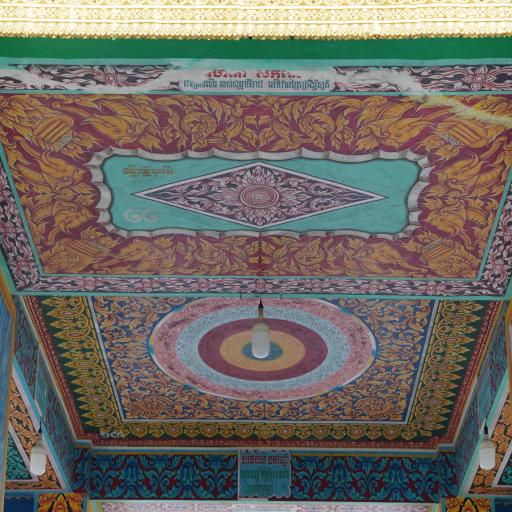hoa: (213, 169, 311, 224), (462, 62, 496, 90), (21, 65, 54, 92), (387, 66, 419, 93), (94, 66, 126, 90), (8, 252, 37, 275), (0, 218, 26, 240), (76, 274, 103, 294), (484, 256, 512, 275), (417, 279, 446, 296), (359, 277, 387, 294), (303, 278, 331, 294), (134, 276, 158, 294), (189, 277, 216, 293), (247, 278, 273, 294), (494, 222, 512, 242)
la: (0, 92, 62, 148), (150, 173, 212, 220), (368, 459, 425, 504), (305, 176, 374, 212), (105, 458, 160, 499), (312, 458, 365, 499), (167, 455, 210, 502), (132, 94, 163, 151), (428, 248, 479, 282), (220, 235, 261, 277), (37, 236, 77, 274), (176, 95, 233, 121), (88, 467, 124, 501), (69, 90, 126, 110), (120, 74, 180, 92), (136, 452, 184, 474), (192, 237, 226, 268), (354, 96, 388, 126), (438, 448, 458, 499), (472, 208, 494, 254), (400, 453, 443, 476), (320, 256, 362, 278), (290, 95, 333, 116), (5, 144, 34, 175), (163, 109, 186, 148), (159, 256, 196, 280), (291, 454, 335, 474), (331, 112, 354, 150), (72, 446, 90, 493), (72, 124, 102, 152), (352, 124, 380, 154), (416, 76, 468, 92), (411, 64, 470, 78), (493, 139, 512, 181), (346, 453, 388, 472), (192, 455, 238, 472), (324, 233, 358, 255), (86, 452, 127, 470), (294, 235, 317, 267), (61, 136, 86, 165), (192, 469, 217, 498), (160, 469, 184, 499), (258, 94, 290, 116), (116, 64, 166, 78), (214, 471, 239, 499), (430, 141, 460, 164), (228, 93, 258, 115), (290, 470, 312, 500), (310, 470, 332, 500), (416, 192, 445, 214), (3, 194, 24, 224), (155, 231, 178, 258), (141, 471, 161, 502), (98, 233, 126, 255), (30, 218, 48, 250), (407, 469, 425, 501), (416, 130, 442, 152), (497, 196, 512, 234), (177, 234, 197, 262), (310, 122, 328, 152), (54, 77, 95, 90), (385, 284, 426, 297), (329, 96, 362, 112), (80, 222, 106, 242), (153, 94, 179, 114), (496, 266, 512, 298), (261, 254, 284, 276), (16, 232, 34, 260), (9, 262, 27, 290), (422, 472, 440, 500), (335, 80, 372, 93), (14, 173, 34, 197), (484, 77, 512, 94), (257, 124, 276, 149), (381, 277, 428, 287), (422, 180, 448, 198), (401, 233, 421, 256), (241, 125, 259, 150), (60, 65, 96, 77), (158, 274, 197, 285), (215, 283, 253, 294), (39, 274, 80, 284), (0, 234, 17, 258), (417, 223, 437, 243), (266, 276, 306, 286), (158, 284, 198, 294), (489, 234, 504, 260), (470, 286, 500, 299), (102, 282, 141, 292), (103, 273, 138, 284), (267, 284, 305, 294), (0, 78, 27, 92), (441, 277, 471, 289), (383, 422, 401, 442), (310, 424, 330, 442), (330, 286, 368, 295), (347, 424, 366, 442), (27, 284, 58, 295), (234, 424, 255, 440), (20, 190, 35, 212), (440, 285, 470, 296), (328, 278, 369, 286), (216, 276, 257, 284), (164, 422, 183, 439), (276, 424, 296, 440), (200, 423, 217, 440), (130, 423, 147, 440), (259, 239, 275, 257), (482, 268, 494, 292), (489, 67, 512, 78), (270, 234, 294, 244), (28, 262, 40, 282), (503, 240, 512, 264), (60, 284, 86, 292), (471, 277, 486, 288)
lua: (251, 423, 277, 440), (182, 420, 202, 441), (217, 421, 236, 443), (147, 419, 165, 441), (110, 422, 130, 441), (400, 424, 418, 443), (294, 422, 312, 441), (329, 424, 348, 442), (366, 424, 382, 442)
